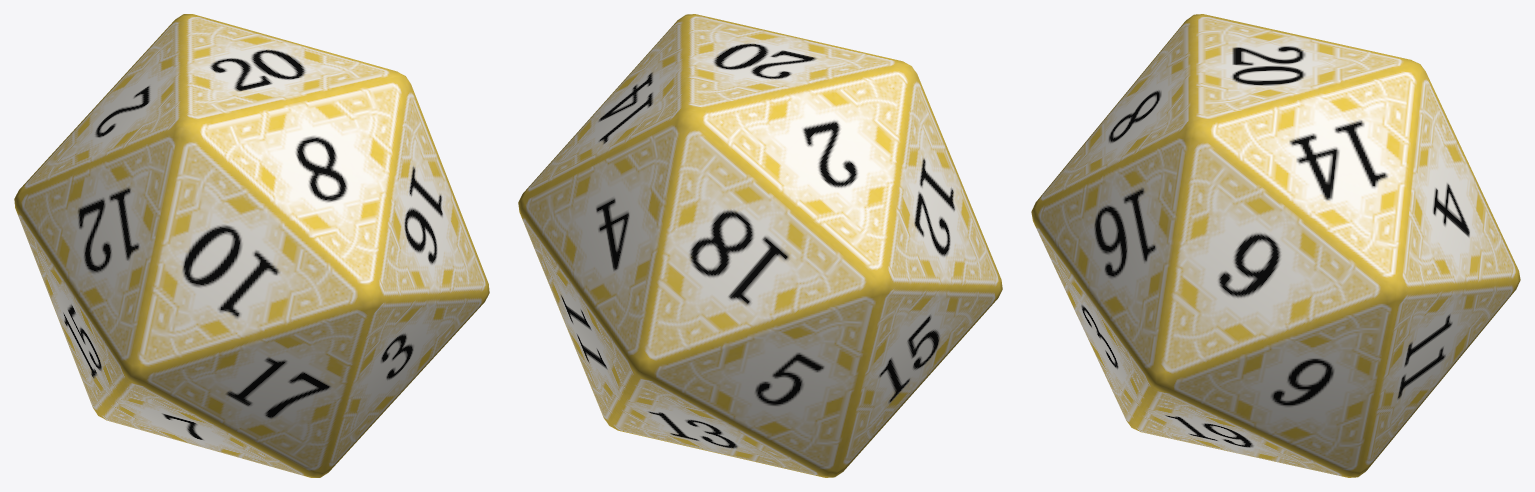
The model's file is dice4.glb.
3 views of the same model, side by side, from view 1: azimuth 30°, elevation 25°; view 2: azimuth 150°, elevation 25°; view 3: azimuth 270°, elevation 25° (orthographic).
Parts seen in each view (by area): view 1: LinkDice; view 2: LinkDice; view 3: LinkDice.
Part boxes in pixels (bbox=[...]): LinkDice: bbox=[14, 14, 489, 477]; LinkDice: bbox=[518, 14, 1002, 477]; LinkDice: bbox=[1031, 14, 1520, 477].
Size of the model in its own units: 0.6084 by 0.5842 by 0.6966.
Materials: 1 (1 with a texture image).
